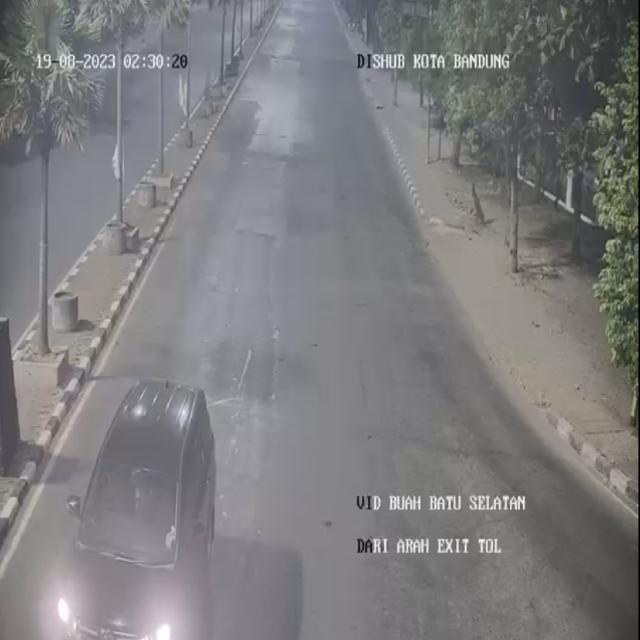cars: (49, 373, 211, 640)
